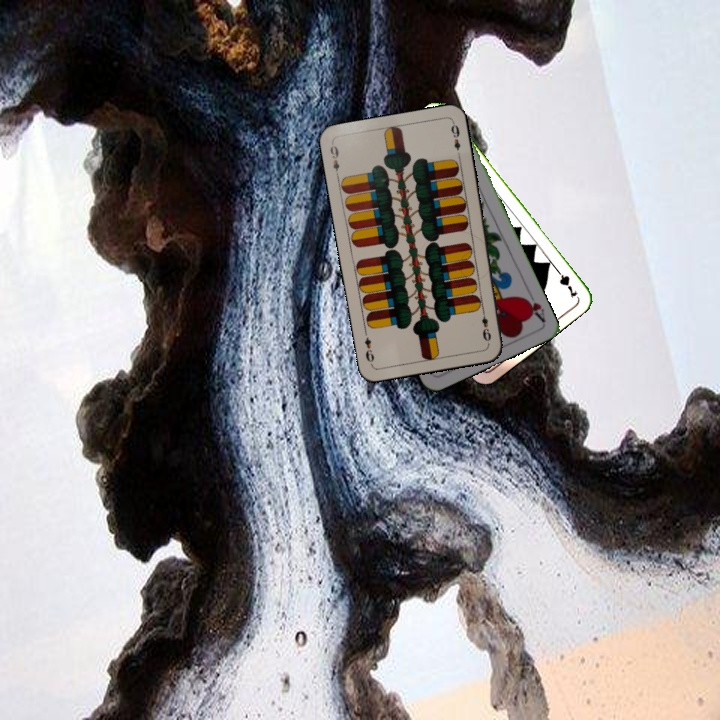E9: (478, 305, 494, 346), (326, 140, 342, 180)
G7: (551, 263, 580, 300)
HA: (519, 286, 548, 325)
